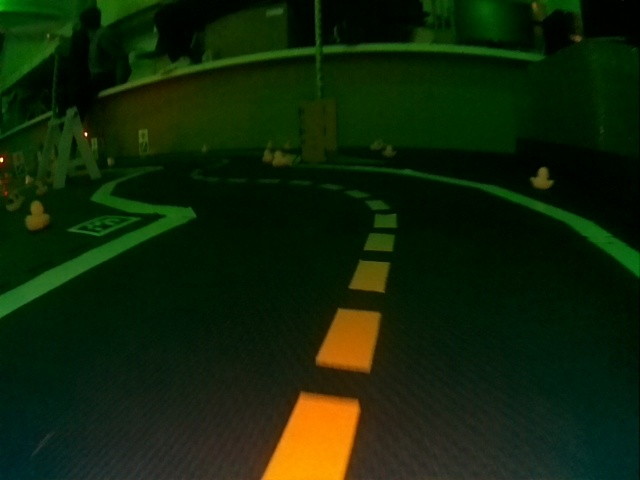Duckie: (27, 201, 52, 230), (532, 167, 552, 189), (273, 150, 286, 166)
QR code: (67, 213, 137, 235)
